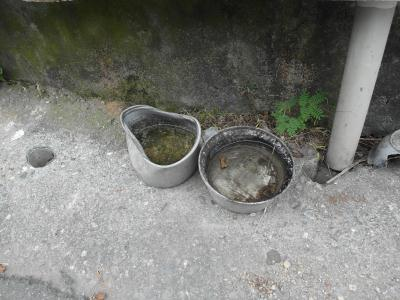bowl: (196, 123, 298, 216), (117, 103, 201, 191)
